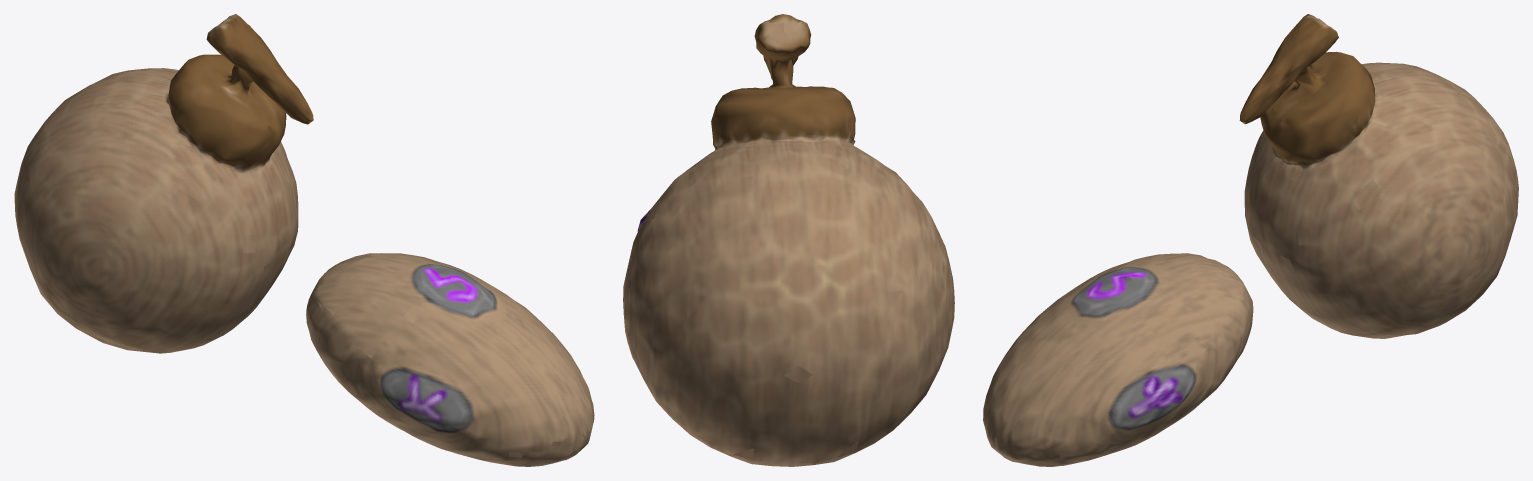
File: sculpture_01.glb
The picture shows the model from 3 angles, left to right: view 1: azimuth 30°, elevation 25°; view 2: azimuth 150°, elevation 25°; view 3: azimuth 270°, elevation 25°; orthographic projection. The views are drawn at different scales.
Visible parts, largest first — view 1: SCL_02_08, SCL_02_03; view 2: SCL_02_08; view 3: SCL_02_08, SCL_02_03.
Part boxes in pixels (left/top/right/bottom): SCL_02_08: left=14, top=14, right=313, bottom=353; SCL_02_03: left=306, top=253, right=594, bottom=466; SCL_02_08: left=623, top=14, right=954, bottom=466; SCL_02_08: left=1239, top=14, right=1518, bottom=338; SCL_02_03: left=983, top=253, right=1253, bottom=466.
Bounding box in the file's own units: 0.5242 × 0.493 × 0.6553.
Materials: 1 (1 with a texture image).
